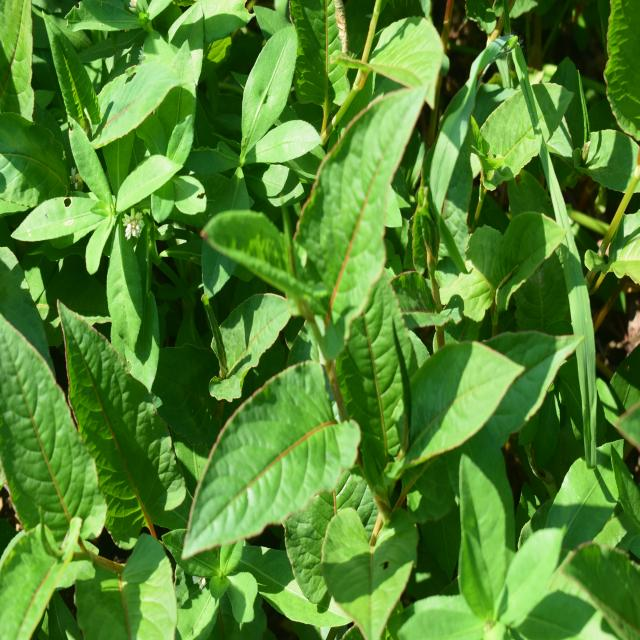Chinese_knotweed: (218, 130, 468, 554), (0, 302, 197, 633)
